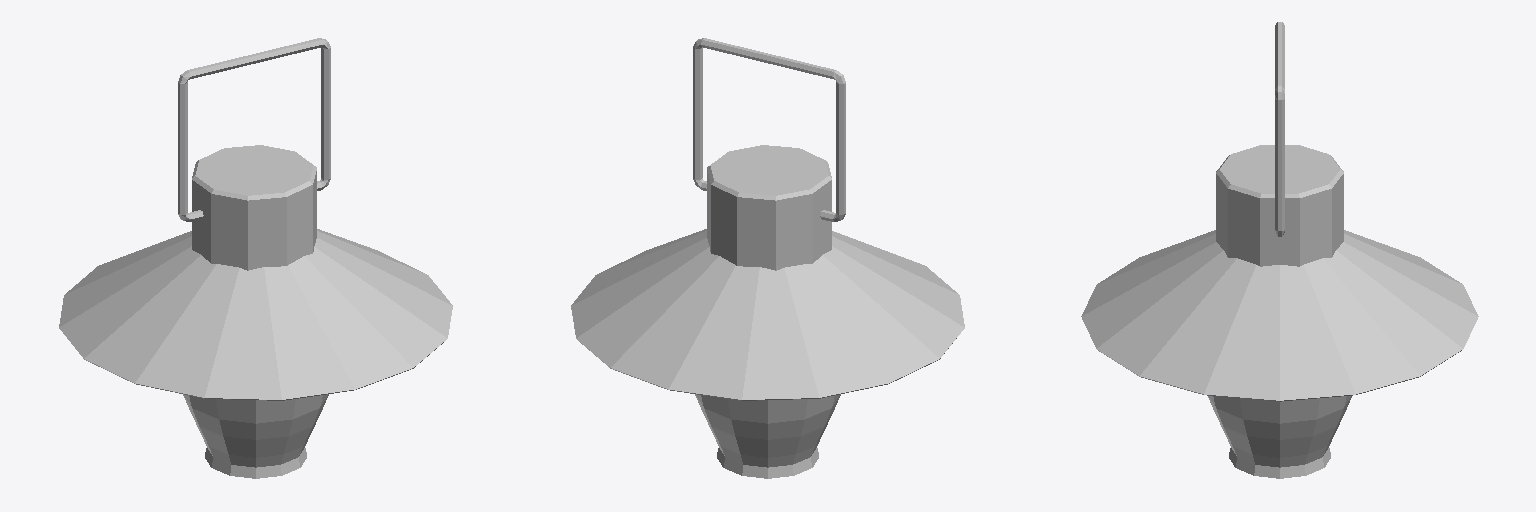
Rendered from lantern.obj.
The picture shows the model from 3 angles: view 1: azimuth 30°, elevation 25°; view 2: azimuth 150°, elevation 25°; view 3: azimuth 270°, elevation 25°; orthographic projection.
Visible parts, largest first — view 1: Cylinder.151; view 2: Cylinder.151; view 3: Cylinder.151.
Boxes of the visible parts, x1,y1,x2,y2 form: Cylinder.151: [59, 38, 452, 478]; Cylinder.151: [571, 38, 964, 478]; Cylinder.151: [1081, 22, 1478, 478].
Size of the model in its own units: 1.69 by 1.89 by 1.69.